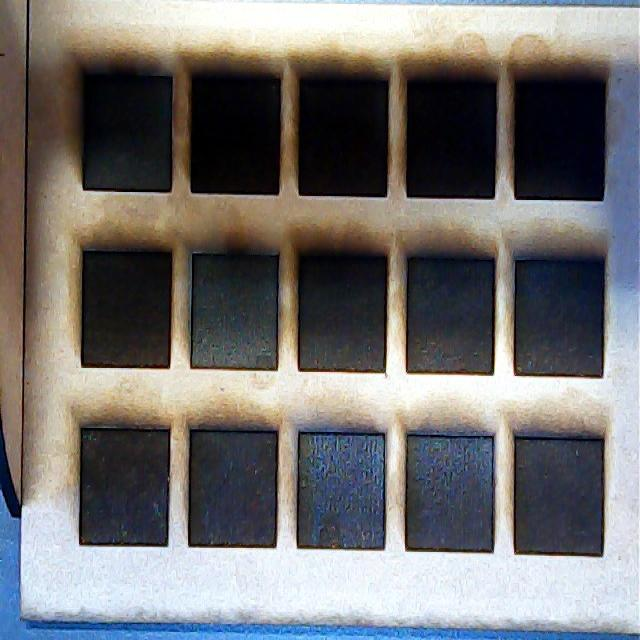nothing: (507, 423, 614, 565), (403, 63, 504, 207), (182, 412, 285, 553), (184, 61, 287, 200), (73, 417, 177, 553), (296, 60, 394, 204), (513, 62, 610, 206), (508, 249, 612, 383), (293, 239, 393, 377), (77, 239, 177, 375), (398, 424, 501, 555), (188, 240, 284, 378), (404, 244, 501, 380), (292, 421, 390, 554), (75, 60, 175, 190)
